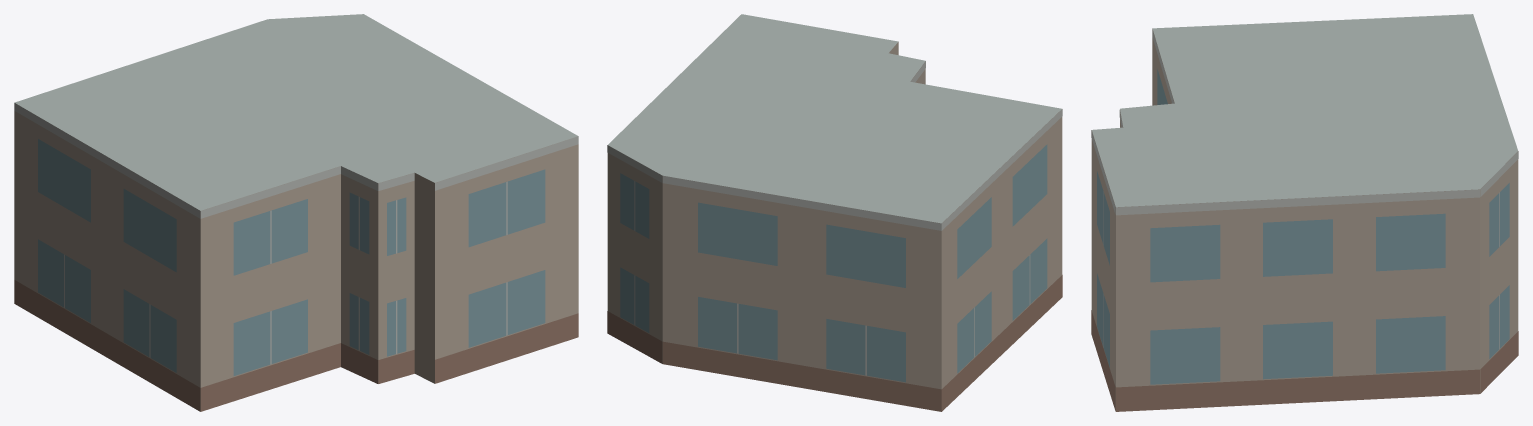
File: survey-upis-32902511.glb
The picture shows the model from 3 angles, left to right: view 1: azimuth 30°, elevation 25°; view 2: azimuth 150°, elevation 25°; view 3: azimuth 270°, elevation 25°; orthographic projection. The views are drawn at different scales.
Parts seen in each view (by area): view 1: survey-upis-32902511.tmp; view 2: survey-upis-32902511.tmp; view 3: survey-upis-32902511.tmp.
Part boxes in pixels (bbox=[...]): survey-upis-32902511.tmp: bbox=[14, 14, 578, 411]; survey-upis-32902511.tmp: bbox=[607, 14, 1062, 411]; survey-upis-32902511.tmp: bbox=[1091, 14, 1518, 411].
Size of the model in its own units: 12.36 by 6.1 by 11.54.
